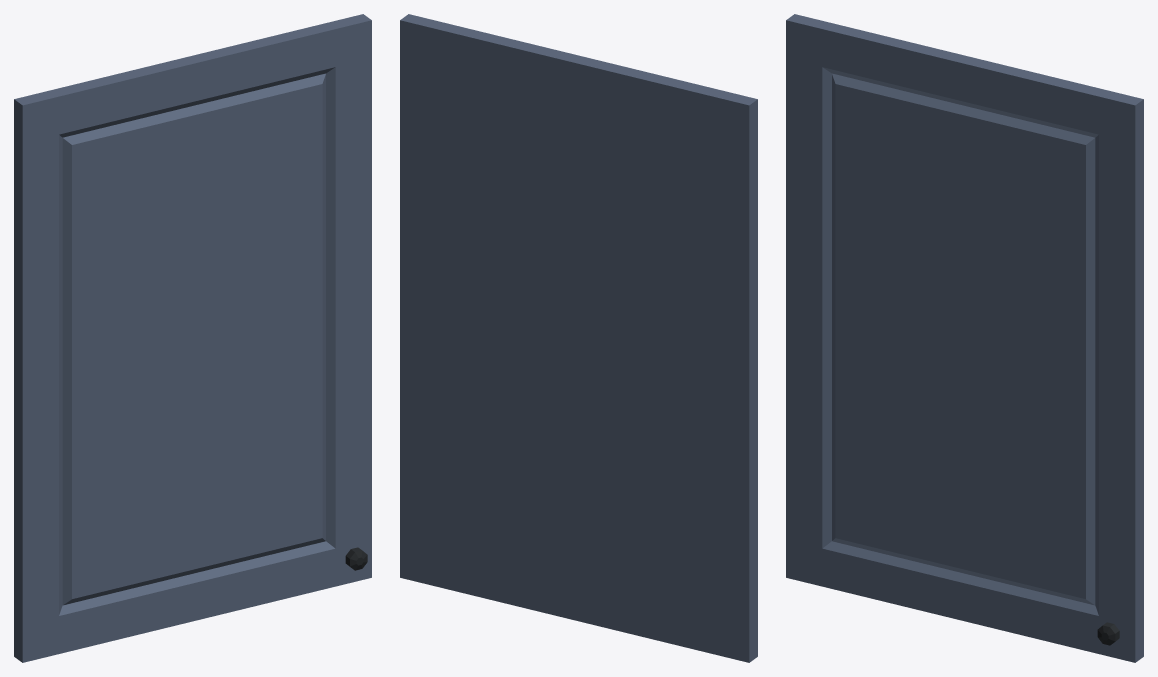
Rendered from Door3_C4_12.fbx.
3 renders of one model, left to right at view 1: azimuth 30°, elevation 25°; view 2: azimuth 150°, elevation 25°; view 3: azimuth 330°, elevation 25°, orthographic.
Parts seen in each view (by area): view 1: Door3_C4_12; view 2: Door3_C4_12; view 3: Door3_C4_12.
Boxes of the visible parts, left/top/right/bottom form: Door3_C4_12: left=14, top=14, right=371, bottom=662; Door3_C4_12: left=400, top=14, right=757, bottom=662; Door3_C4_12: left=786, top=14, right=1143, bottom=662.
Bounding box in the file's own units: 59 × 90 × 5.19.
